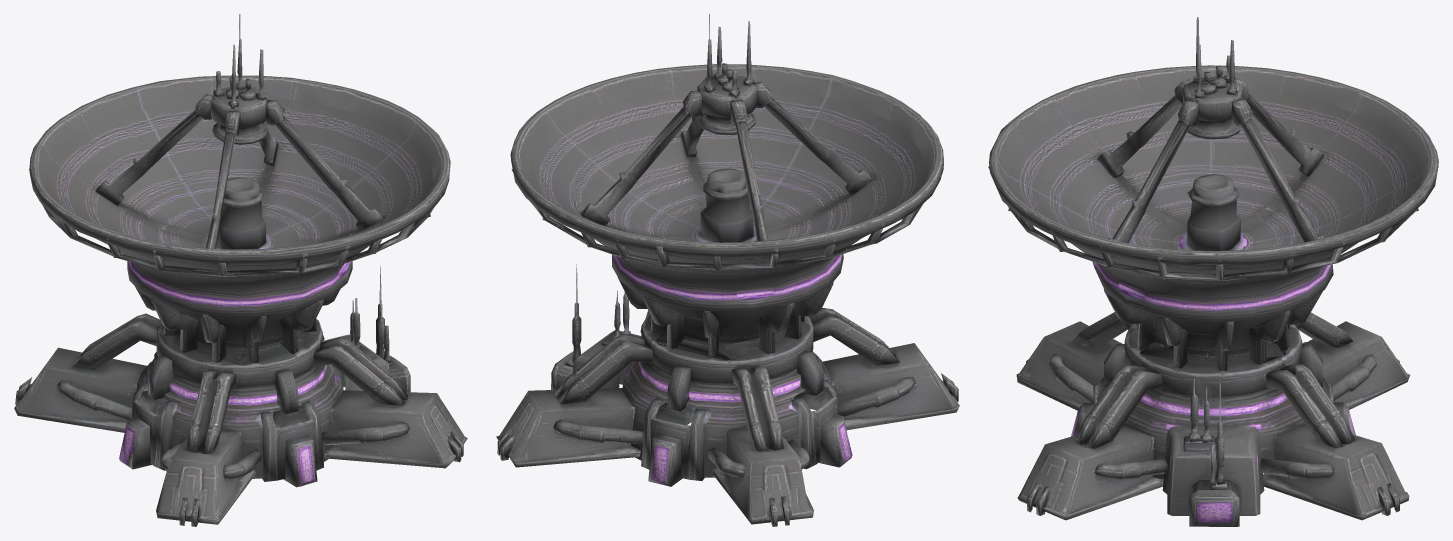
File: selected.glb
3 renders of one model, left to right at view 1: azimuth 30°, elevation 25°; view 2: azimuth 150°, elevation 25°; view 3: azimuth 270°, elevation 25°, orthographic. The views are drawn at different scales.
Parts seen in each view (by area): view 1: tripo_node_6c69a926-301e-4b23-b028-38e2b08e48e2; view 2: tripo_node_6c69a926-301e-4b23-b028-38e2b08e48e2; view 3: tripo_node_6c69a926-301e-4b23-b028-38e2b08e48e2.
Boxes of the visible parts, x1,y1,x2,y2 form: tripo_node_6c69a926-301e-4b23-b028-38e2b08e48e2: [14, 14, 467, 526]; tripo_node_6c69a926-301e-4b23-b028-38e2b08e48e2: [496, 14, 959, 526]; tripo_node_6c69a926-301e-4b23-b028-38e2b08e48e2: [988, 17, 1438, 526].
Bounding box in the file's own units: 0.9238 × 0.998 × 0.9277.
Materials: 1 (1 with a texture image).
